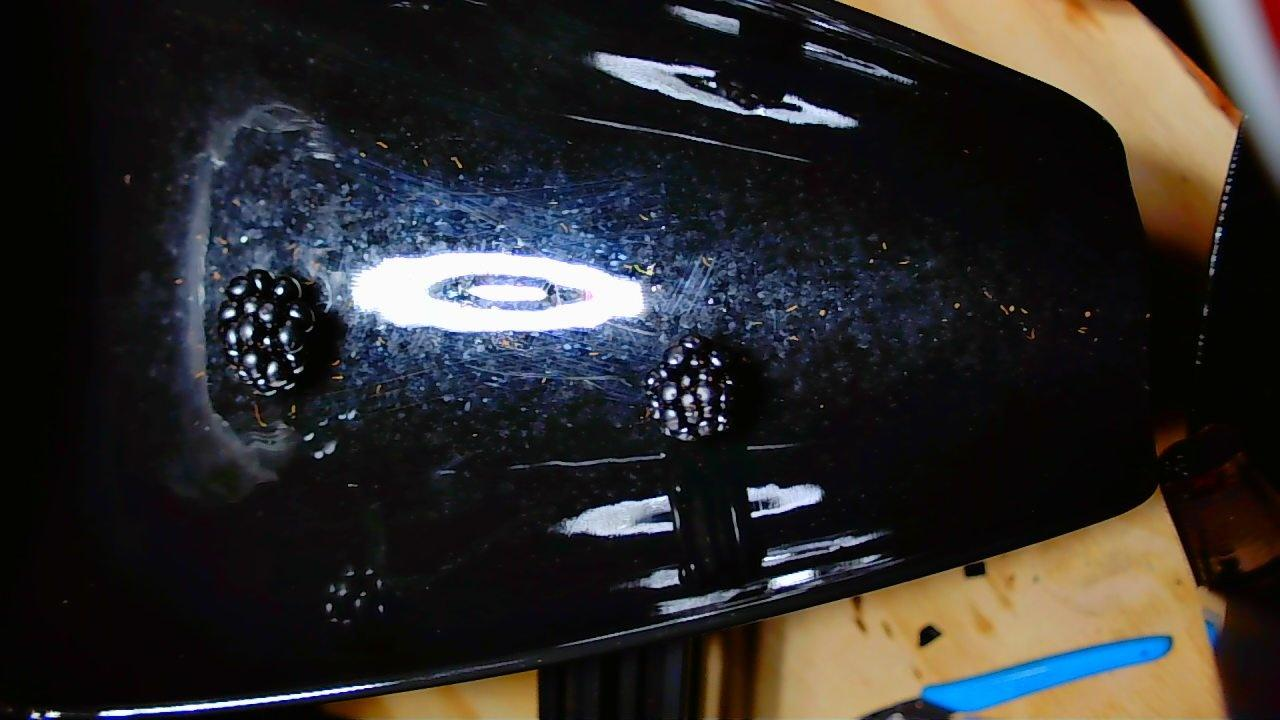berry: (217, 269, 315, 394), (644, 335, 734, 441)
